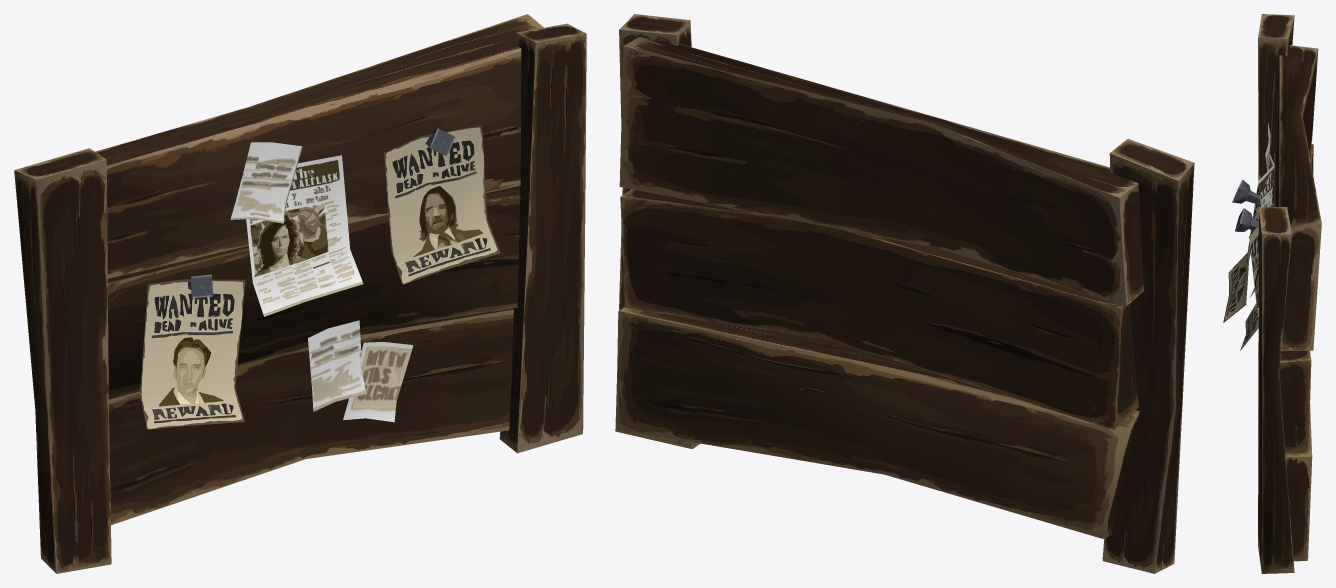
File: SM_PROP_board_01.fbx
3 renders of one model, left to right at view 1: azimuth 30°, elevation 25°; view 2: azimuth 150°, elevation 25°; view 3: azimuth 270°, elevation 25°, orthographic. The views are drawn at different scales.
Parts seen in each view (by area): view 1: SM_PROP_board_01; view 2: SM_PROP_board_01; view 3: SM_PROP_board_01.
Boxes of the visible parts, x1=… form: SM_PROP_board_01: x1=14, y1=14, x2=586, y2=573; SM_PROP_board_01: x1=615, y1=14, x2=1194, y2=573; SM_PROP_board_01: x1=1223, y1=14, x2=1321, y2=573.
Bounding box in the file's own units: 215 × 154 × 38.59.
